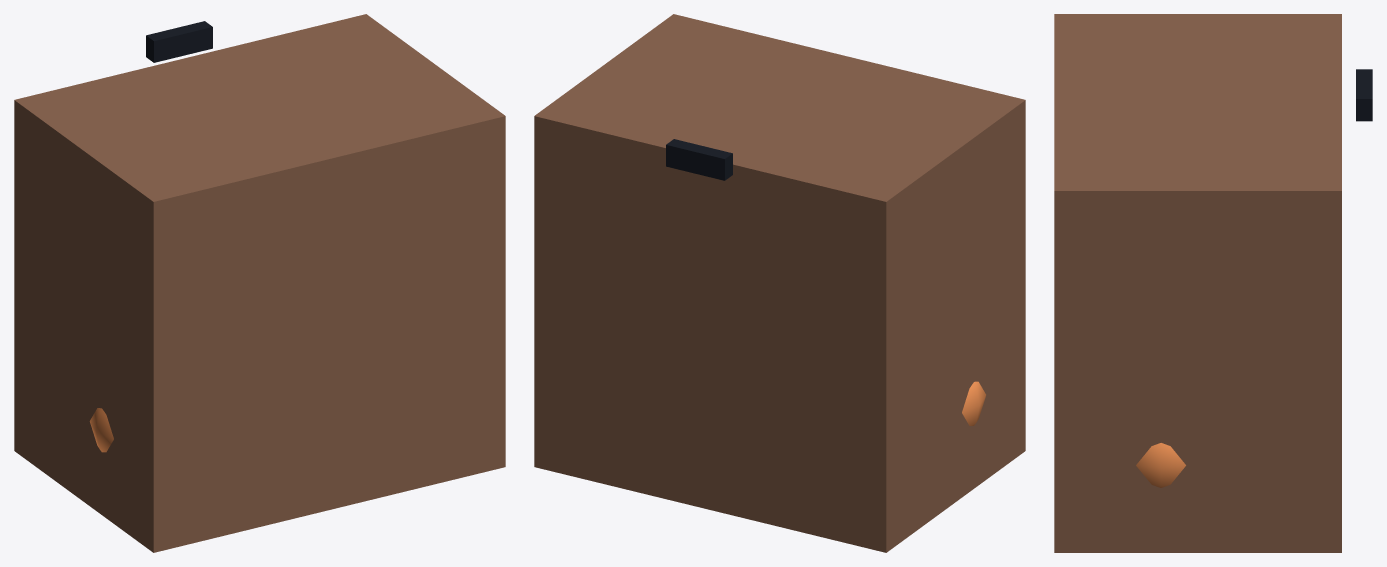
The model's file is enemy-playground-cinder-mule-v1.glb.
3 renders of one model, left to right at view 1: azimuth 30°, elevation 25°; view 2: azimuth 150°, elevation 25°; view 3: azimuth 270°, elevation 25°, orthographic. The views are drawn at different scales.
Parts seen in each view (by area): view 1: Cinder Mule; view 2: Cinder Mule; view 3: Cinder Mule.
Part boxes in pixels (x1,y1,x2,y2): Cinder Mule: [14, 14, 505, 552]; Cinder Mule: [534, 14, 1025, 552]; Cinder Mule: [1054, 14, 1372, 552].
Bounding box in the file's own units: 2.1 × 2.04 × 1.54.
